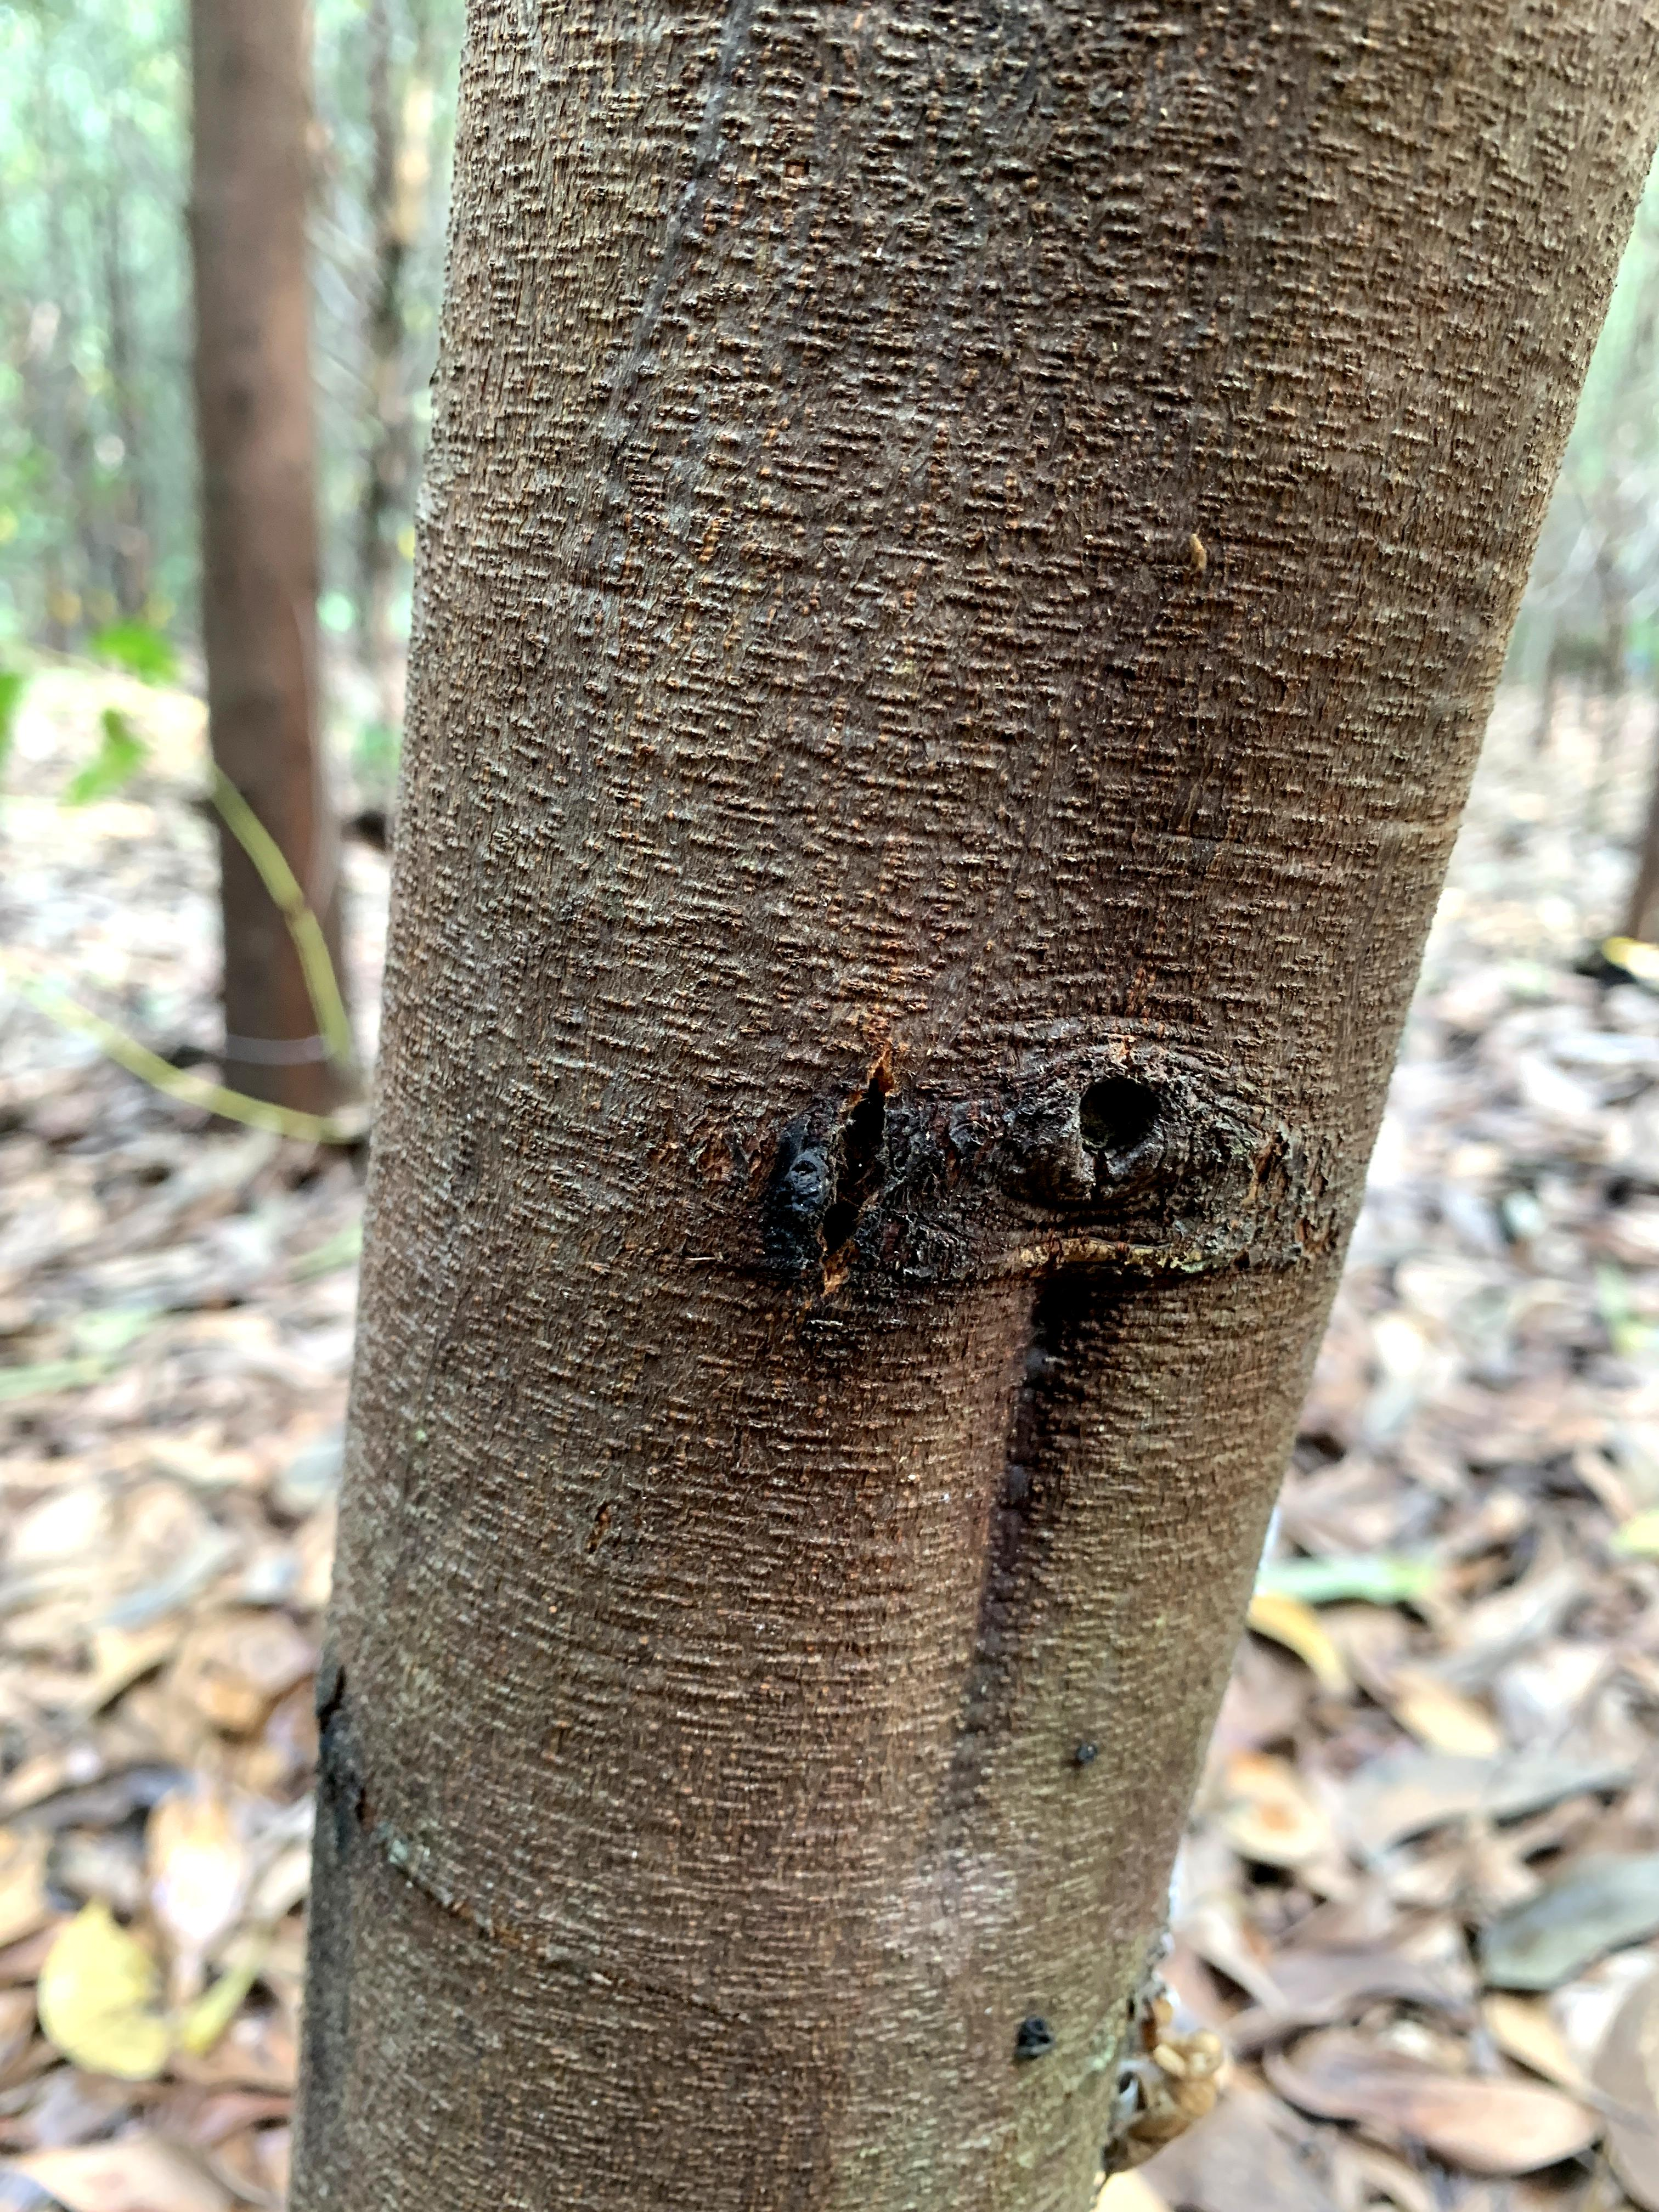Stem Borer: (802, 867, 1288, 1501)
